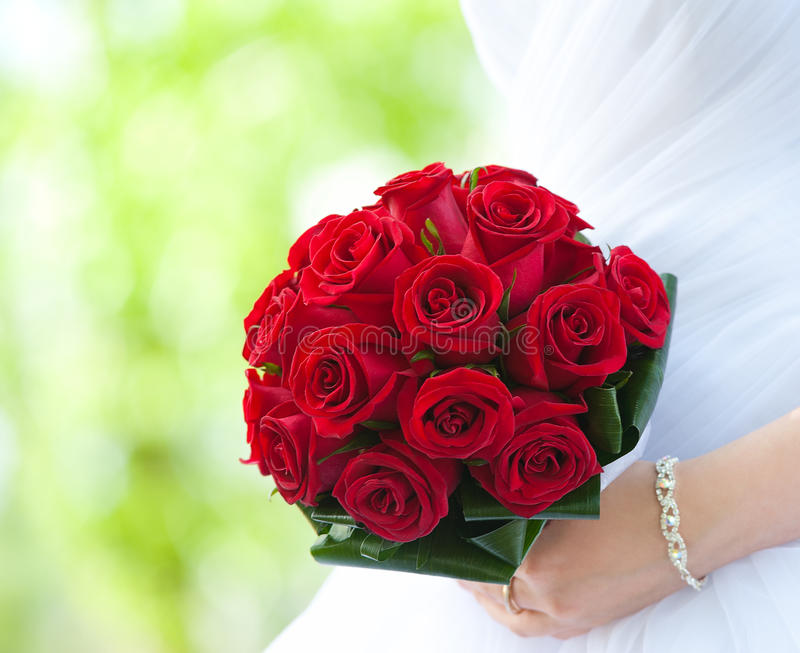RedRose: (281, 314, 408, 450), (472, 408, 603, 524), (510, 272, 629, 392), (458, 180, 579, 292), (291, 210, 411, 316), (390, 251, 501, 365), (340, 442, 458, 546), (404, 361, 521, 457), (370, 162, 478, 260), (256, 400, 346, 507), (598, 234, 674, 351), (231, 358, 291, 476), (235, 276, 313, 365), (453, 148, 545, 192)
